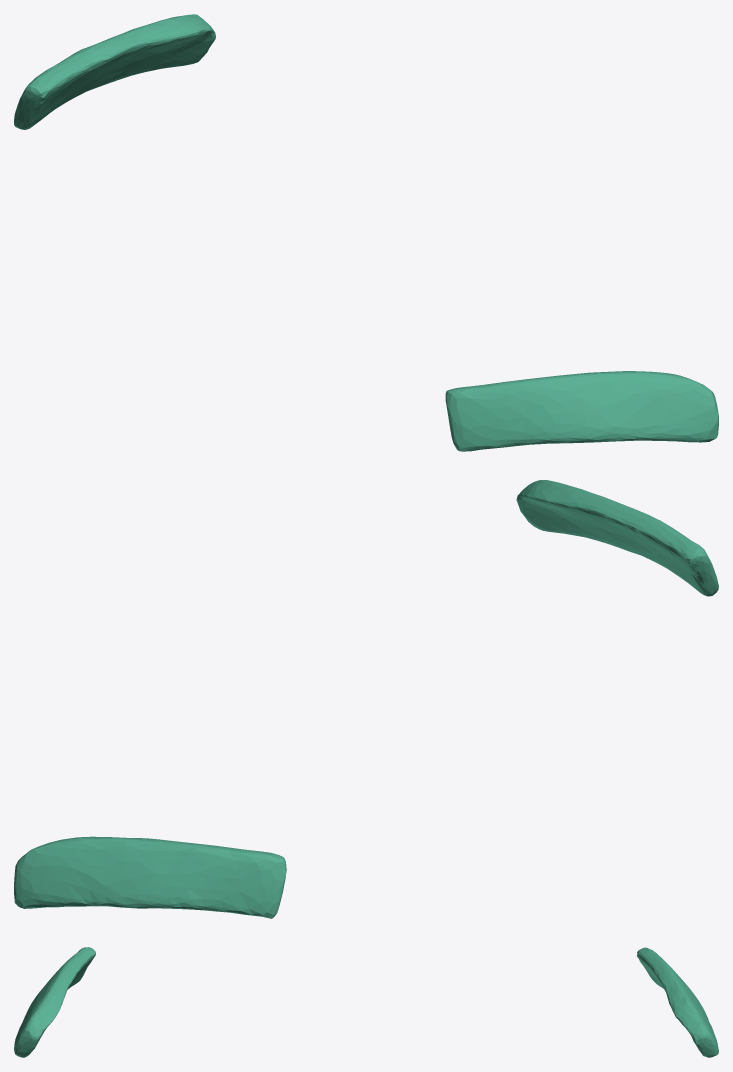
3 renders of one model, top to bottom at view 1: azimuth 30°, elevation 25°; view 2: azimuth 150°, elevation 25°; view 3: azimuth 270°, elevation 25°, orthographic. The views are drawn at different scales.
Parts seen in each view (by area): view 1: 163.obj; view 2: 163.obj; view 3: 163.obj.
Part boxes in pixels (x1=…): 163.obj: x1=14, y1=14, x2=718, y2=451; 163.obj: x1=14, y1=480, x2=718, y2=918; 163.obj: x1=14, y1=947, x2=718, y2=1057.
Bounding box in the file's own units: 2409 × 697 × 9612.
